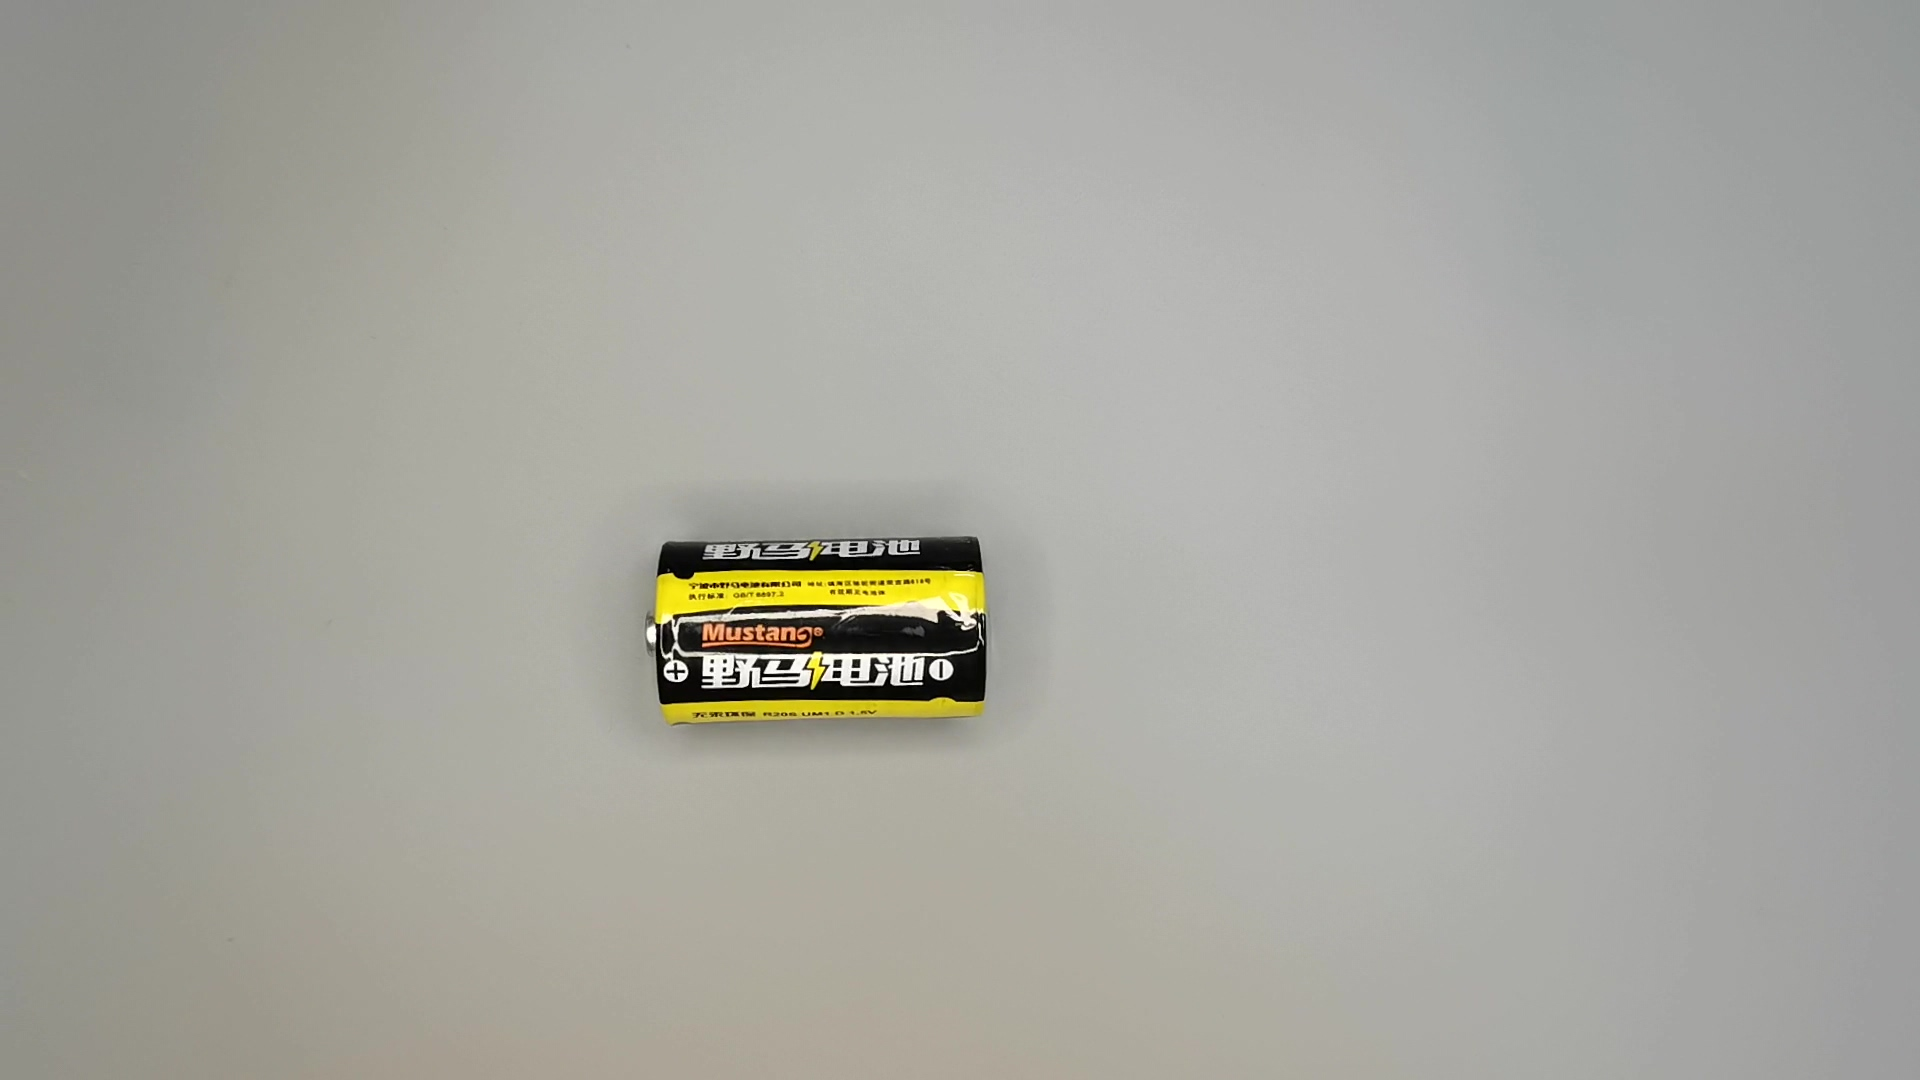battery: (640, 531, 1000, 737)
